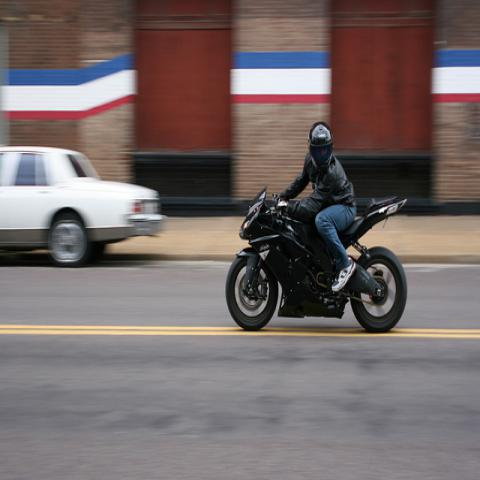car: (1, 142, 161, 265)
motorcycle: (226, 188, 408, 336)
